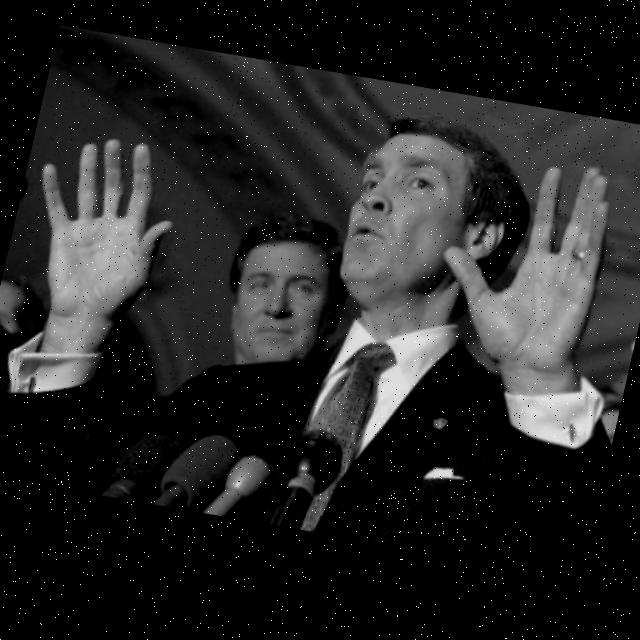face: (336, 118, 530, 327), (202, 215, 353, 374)
